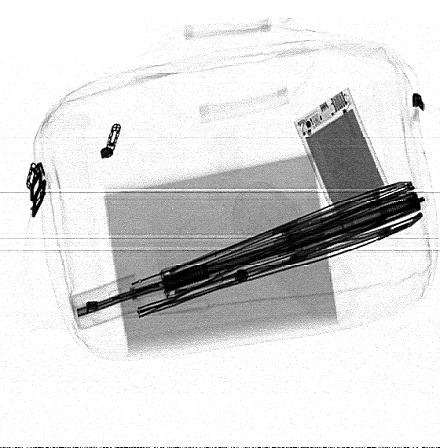Powerbank: (292, 86, 393, 227)
